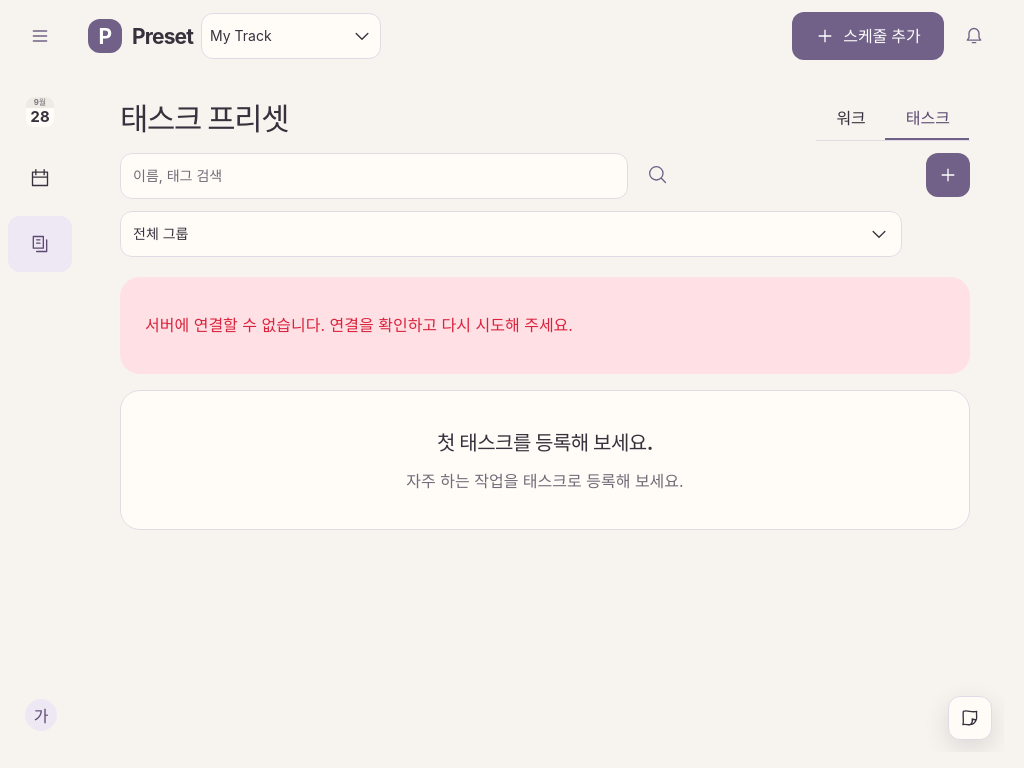
Scenario: three-destination workspace structure › separates stored work and task presets
This screenshot has width=1024, height=768.
Click the button named "메뉴 펼치기": (40, 36) [18,14,62,58]
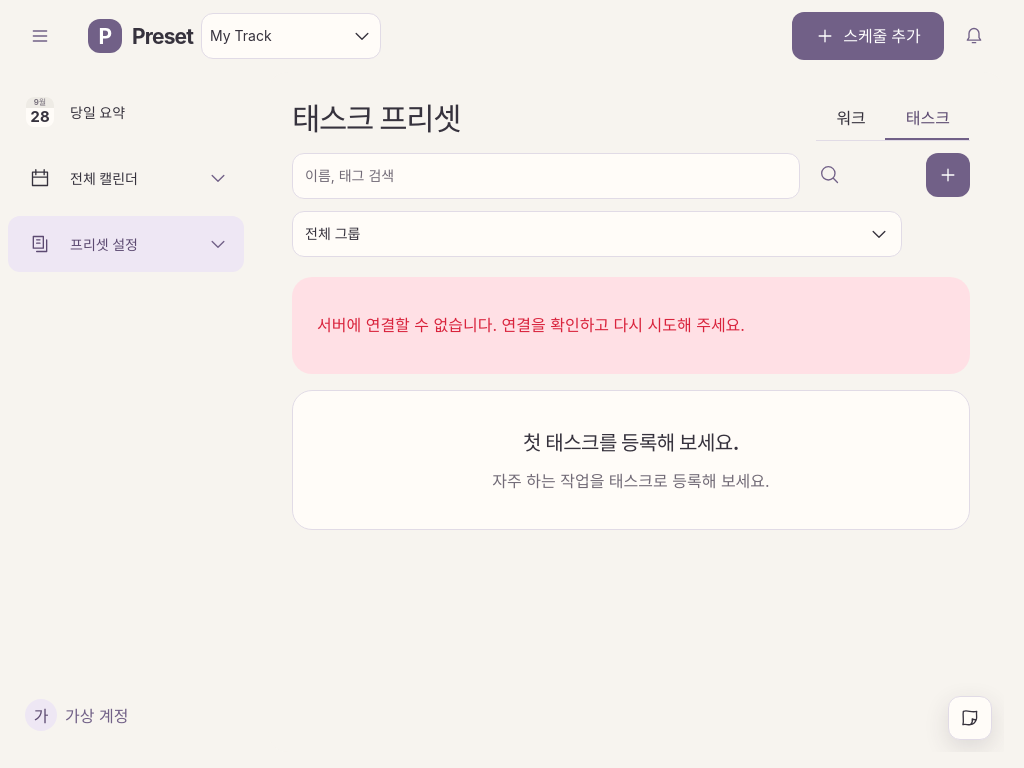
Click the button named "프리셋 종류 메뉴": (218, 244) [196,222,240,266]
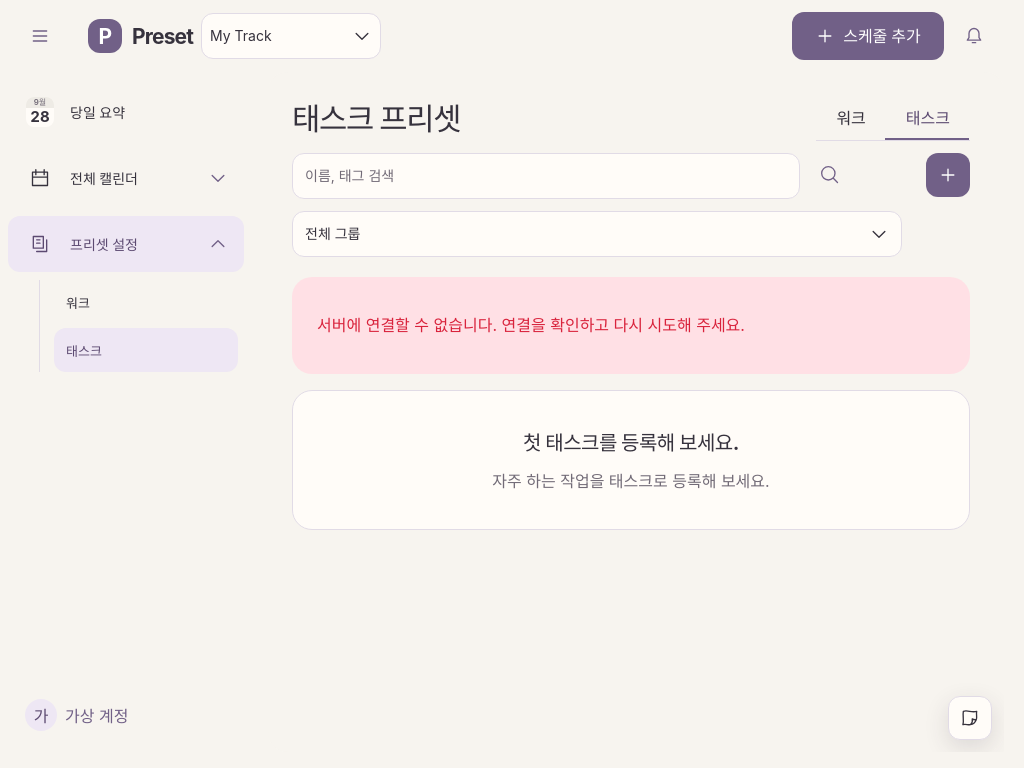
Expected: the heading "첫 태스크를 등록해 보세요." is shown, [523,431,739,455]
Click the link "워크" below "프리셋 설정": (78, 302) [66,294,90,310]
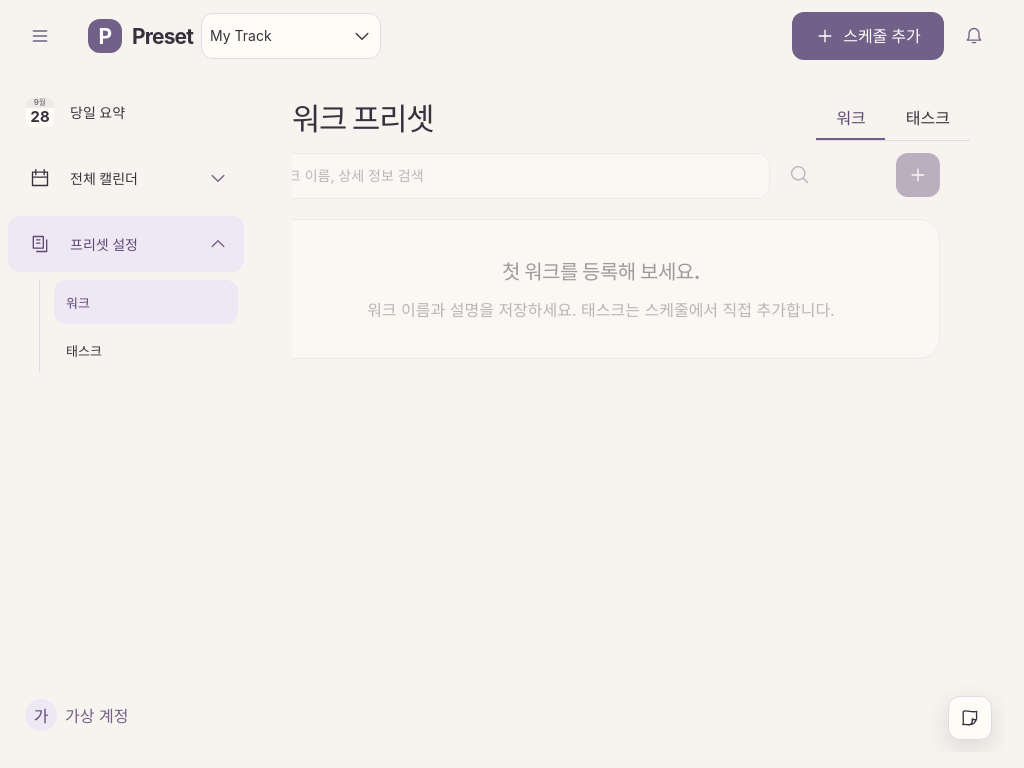
Expected: the heading "첫 워크를 등록해 보세요." is shown, [507,260,705,284]
